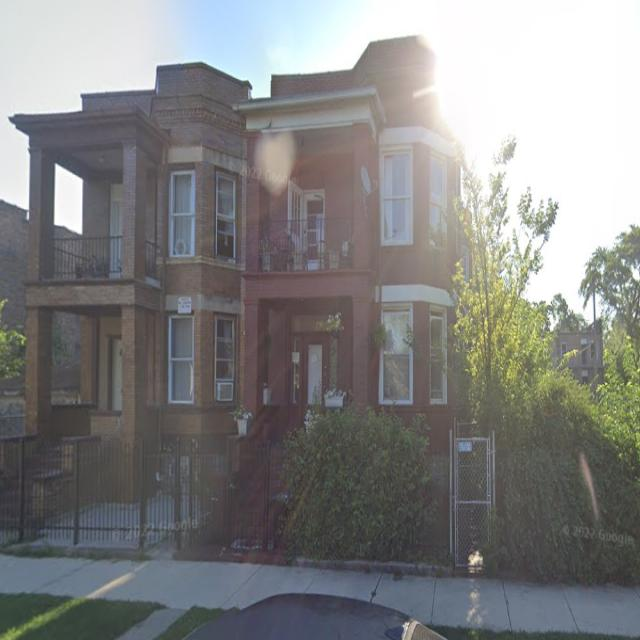House: (0, 60, 251, 525), (235, 38, 466, 510)
